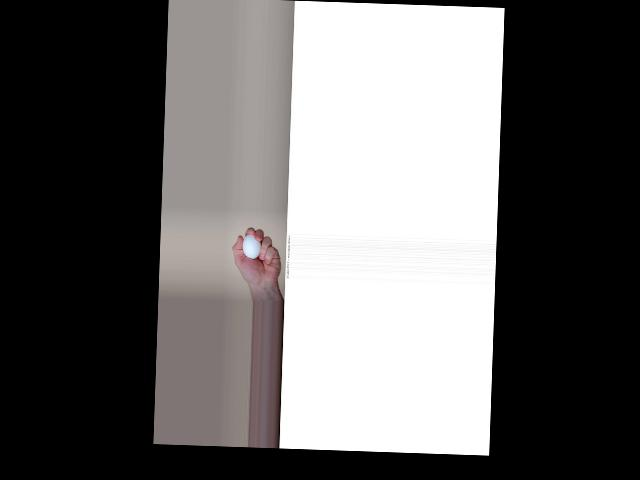egg: (242, 234, 261, 260)
